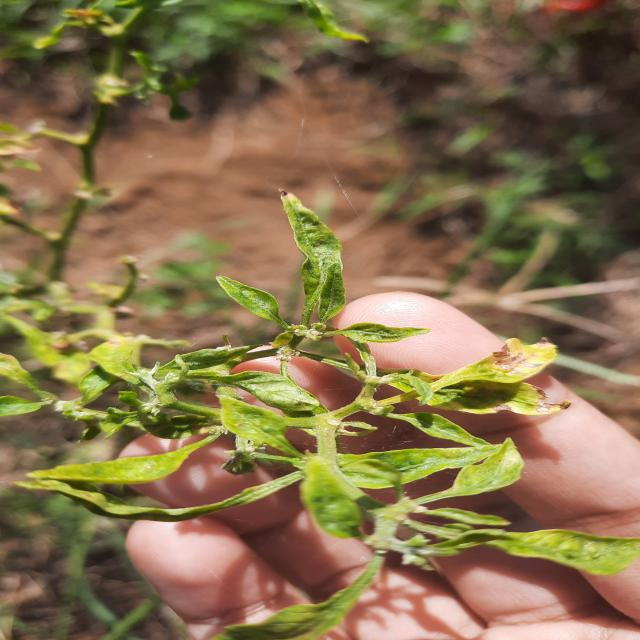bercak_daun: (416, 336, 583, 424)
